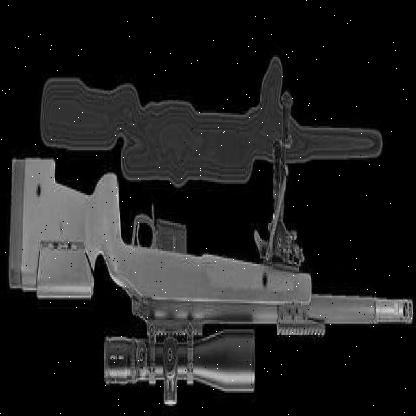rifle: (4, 143, 414, 404)
